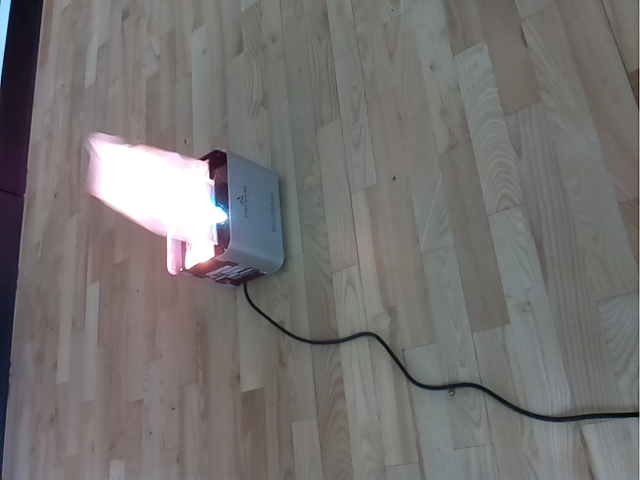fire: (84, 130, 219, 259)
